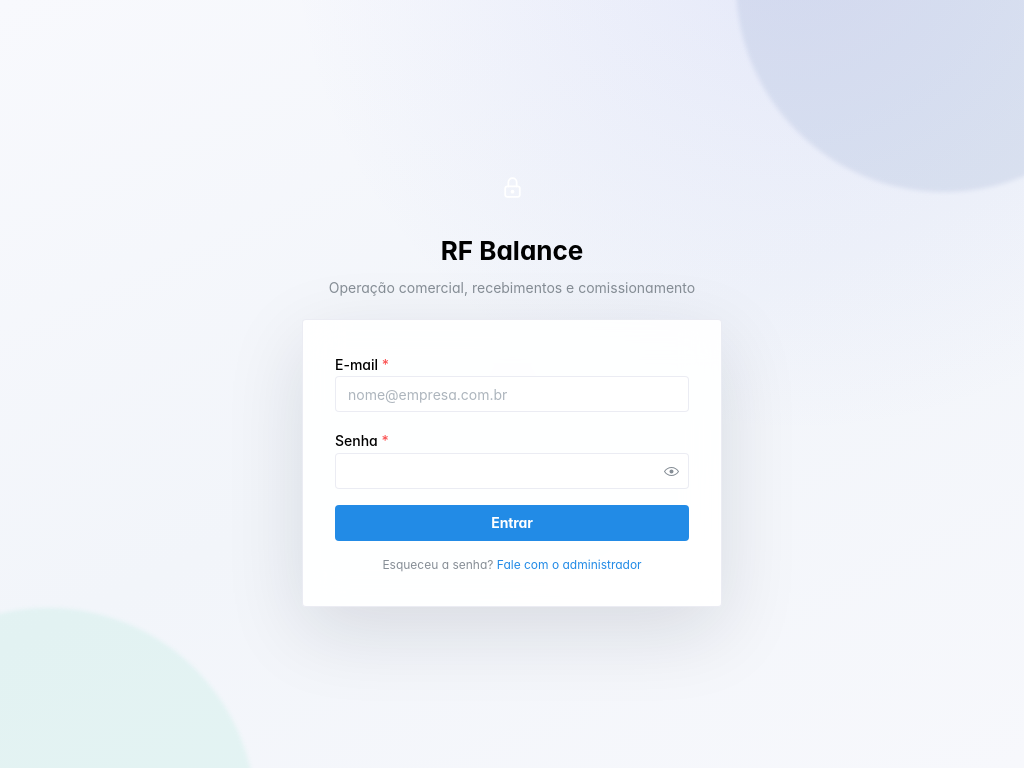
LoginPage › mostra o erro do backend com o código de suporte
In the field labelled "E-mail *": (512, 394) [335, 376, 689, 412], type "admin@rfbalance.local"
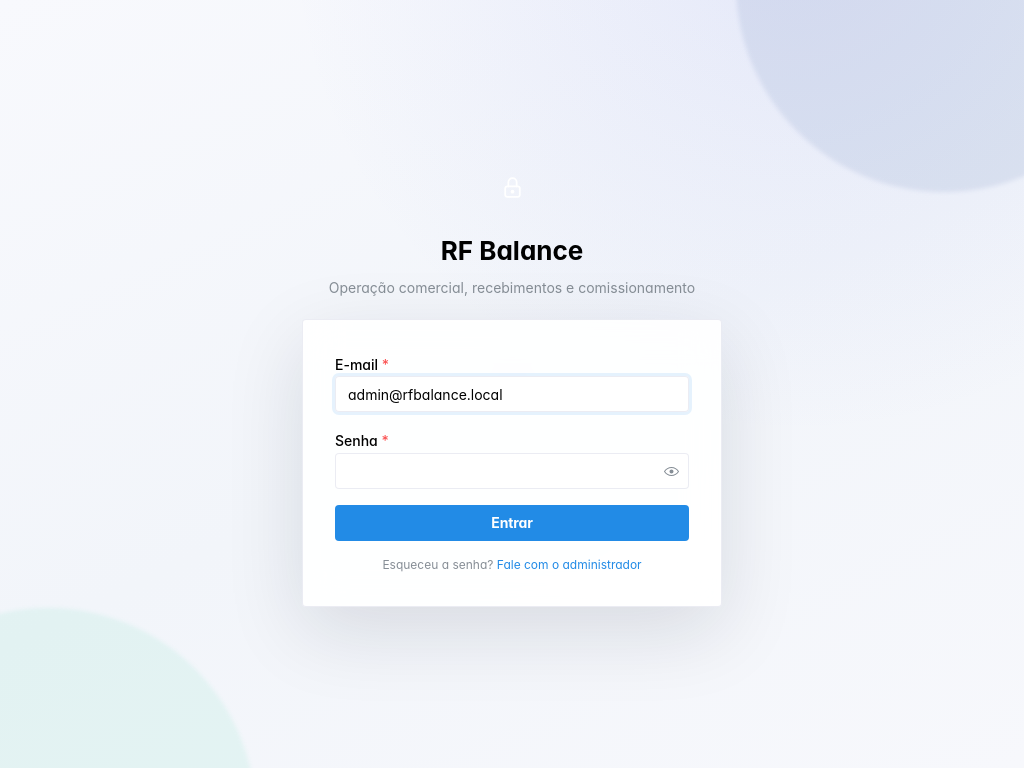
In the password field labelled "Senha *": (512, 471) [336, 454, 688, 488], type "senhaerrada"
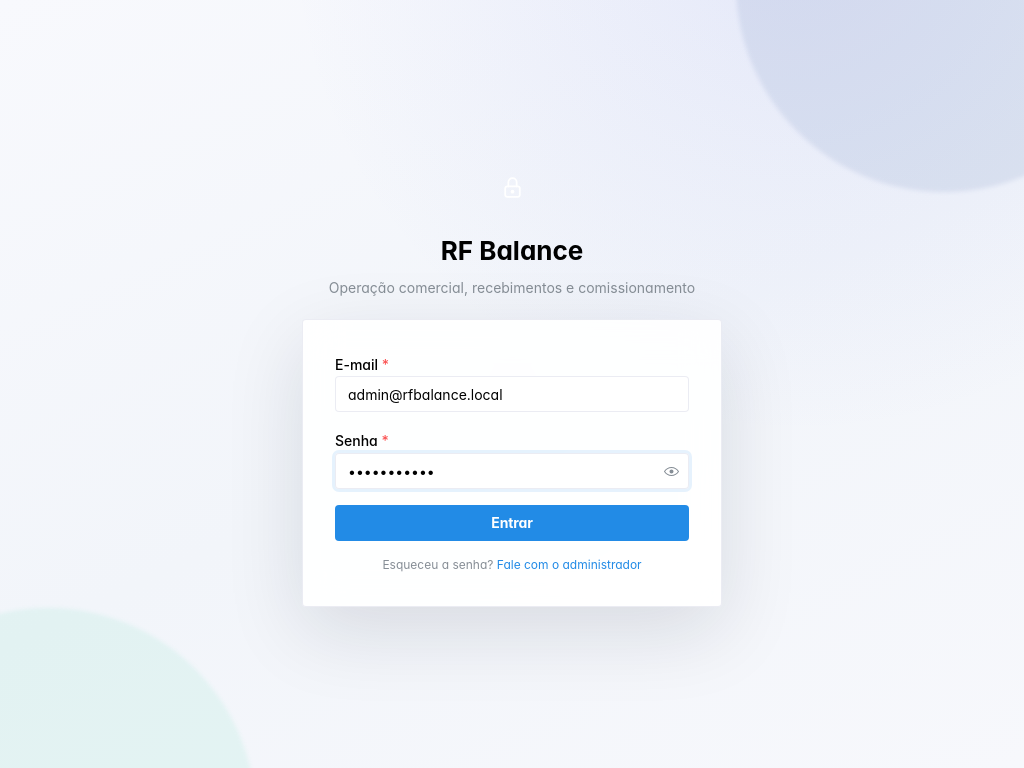
Click the button "Entrar": click(512, 523) [335, 505, 689, 541]
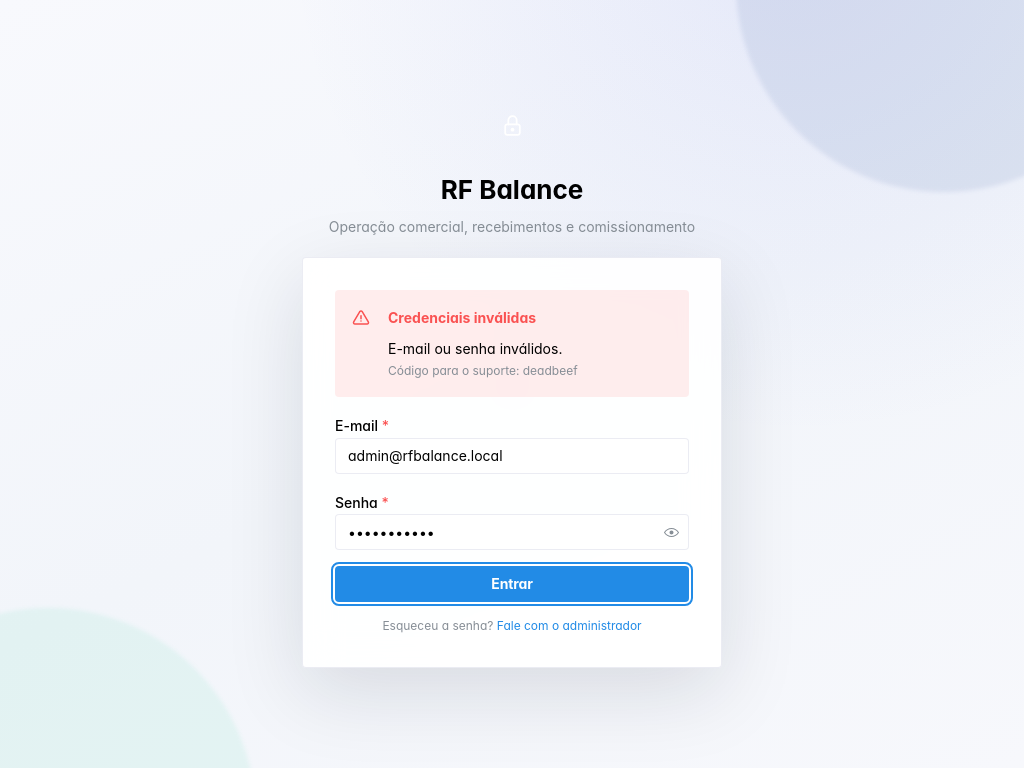
Check: the message shows "E-mail ou senha inválidos", box [388, 340, 562, 357]
Check: the text "Código para o suporte: deadbeef" is shown, box [388, 363, 578, 378]
